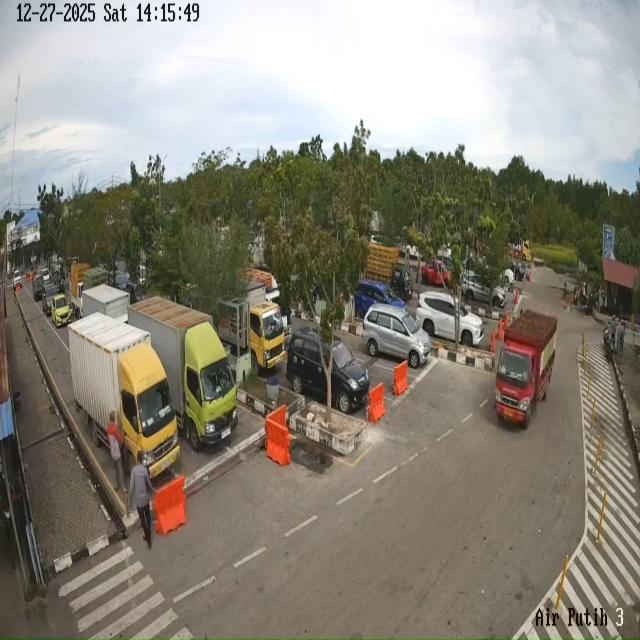Golongan IVA: (286, 327, 370, 414), (362, 304, 430, 369), (416, 291, 484, 347), (354, 279, 406, 320), (462, 272, 506, 308), (51, 293, 71, 328)
Golongan VB: (69, 314, 180, 478), (128, 297, 238, 451), (494, 309, 557, 428), (214, 281, 286, 374)
